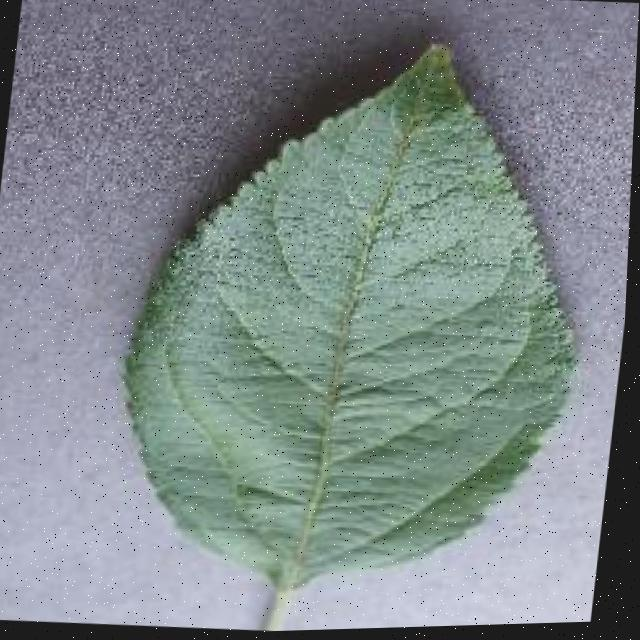healthy: (74, 0, 620, 637)
